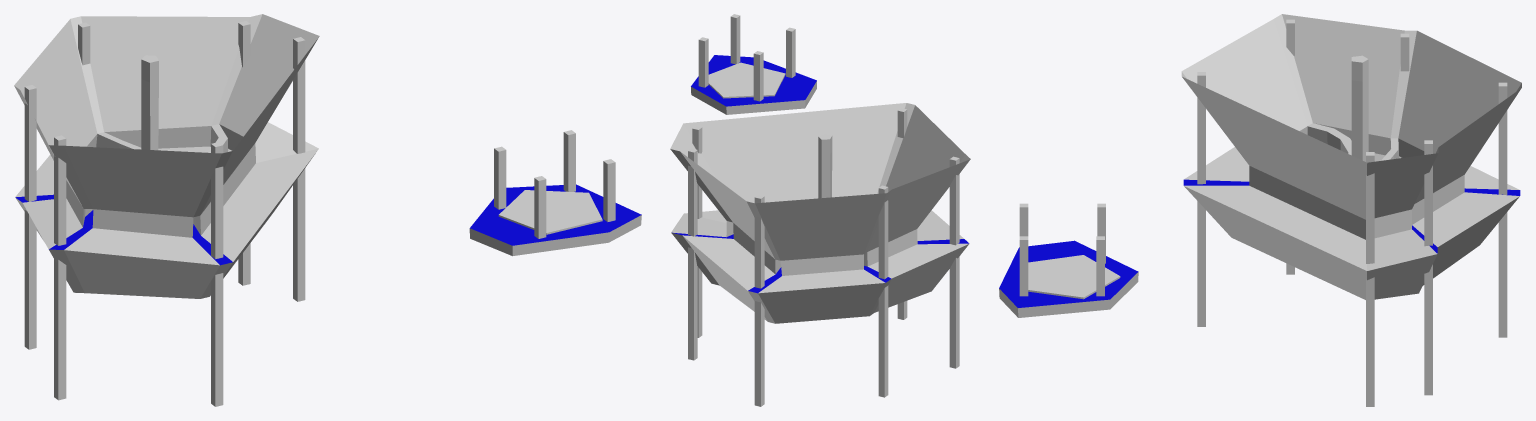
The model's file is RapidFireWeaponAreaInterior.fbx.
The picture shows the model from 3 angles, left to right: view 1: azimuth 30°, elevation 25°; view 2: azimuth 150°, elevation 25°; view 3: azimuth 270°, elevation 25°; orthographic projection. The views are drawn at different scales.
Parts seen in each view (by area): view 1: UnbakedLightMesh, Cylinder; view 2: UnbakedLightMesh, Cylinder; view 3: UnbakedLightMesh, Cylinder.
Boxes of the visible parts, box(x1,y1,x2,y2) form: UnbakedLightMesh: box(14, 14, 319, 406); Cylinder: box(15, 55, 641, 265); UnbakedLightMesh: box(670, 103, 970, 406); Cylinder: box(671, 14, 969, 293); UnbakedLightMesh: box(1181, 14, 1521, 406); Cylinder: box(999, 55, 1520, 317).
Bounding box in the file's own units: 5886 × 3476 × 6033.
